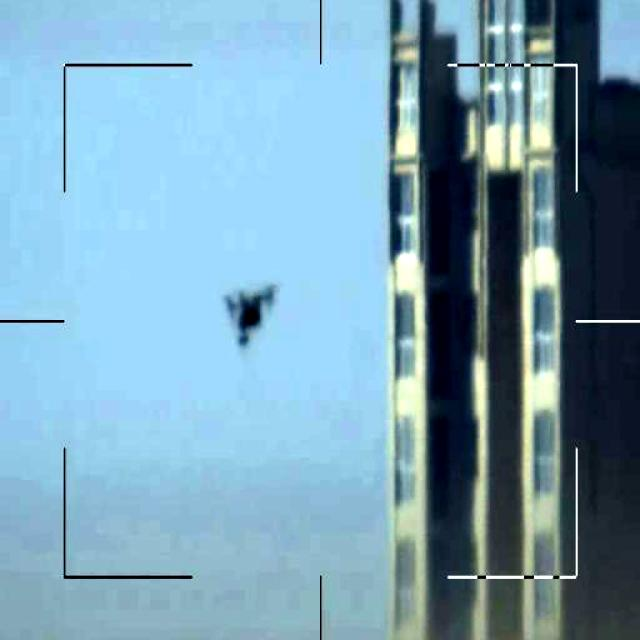bird: (214, 272, 284, 358)
